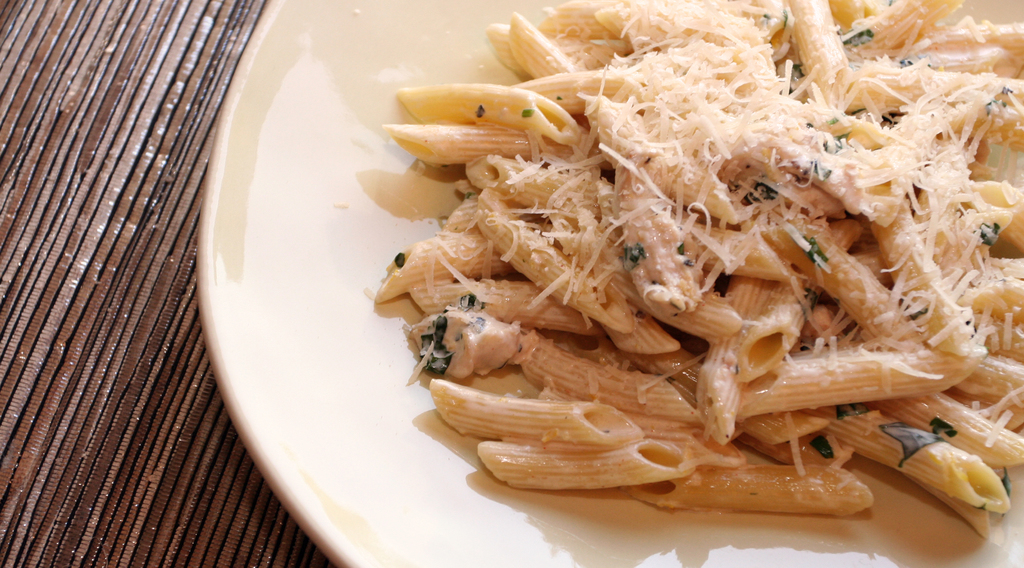pasta: (376, 0, 1023, 536)
